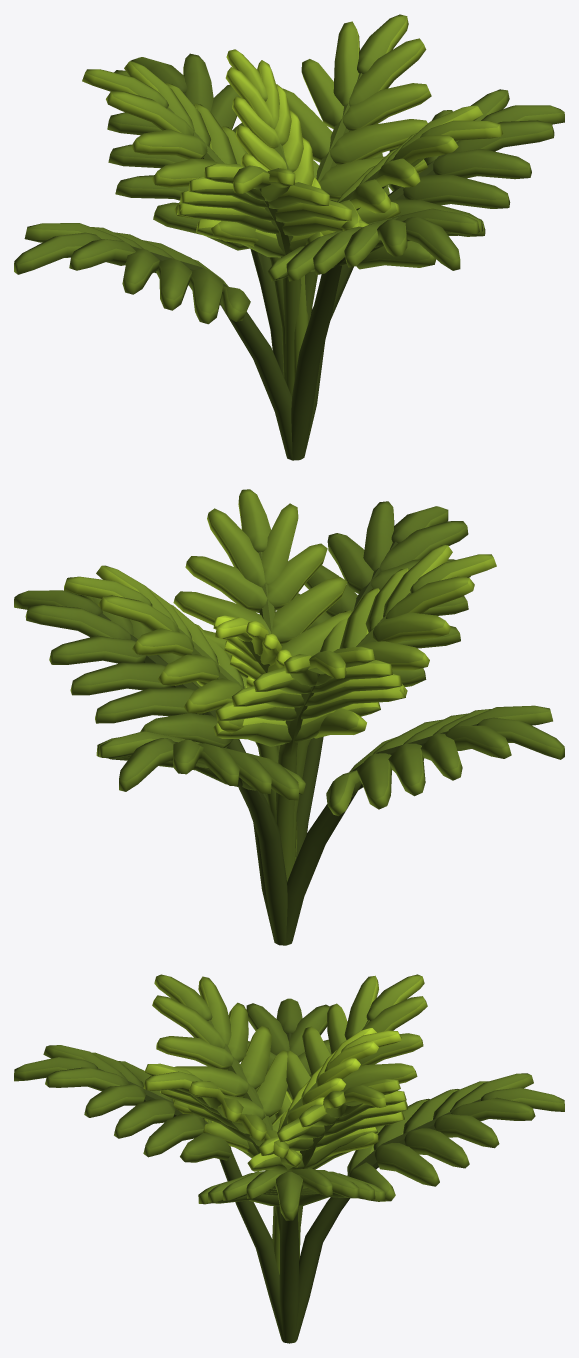
The model's file is palm_tree_small_LOD_group.fbx.
The picture shows the model from 3 angles, top to bottom: view 1: azimuth 30°, elevation 25°; view 2: azimuth 150°, elevation 25°; view 3: azimuth 270°, elevation 25°; orthographic projection. The views are drawn at different scales.
Parts seen in each view (by area): view 1: palm_tree_small_LOD0; view 2: palm_tree_small_LOD0; view 3: palm_tree_small_LOD0.
Boxes of the visible parts, x1,y1,x2,y2 form: palm_tree_small_LOD0: [14, 14, 564, 460]; palm_tree_small_LOD0: [14, 489, 564, 945]; palm_tree_small_LOD0: [14, 974, 564, 1343].
Size of what is drawn, in the model's own units: 493 by 314 by 503.
Materials: 1 (1 with a texture image).
